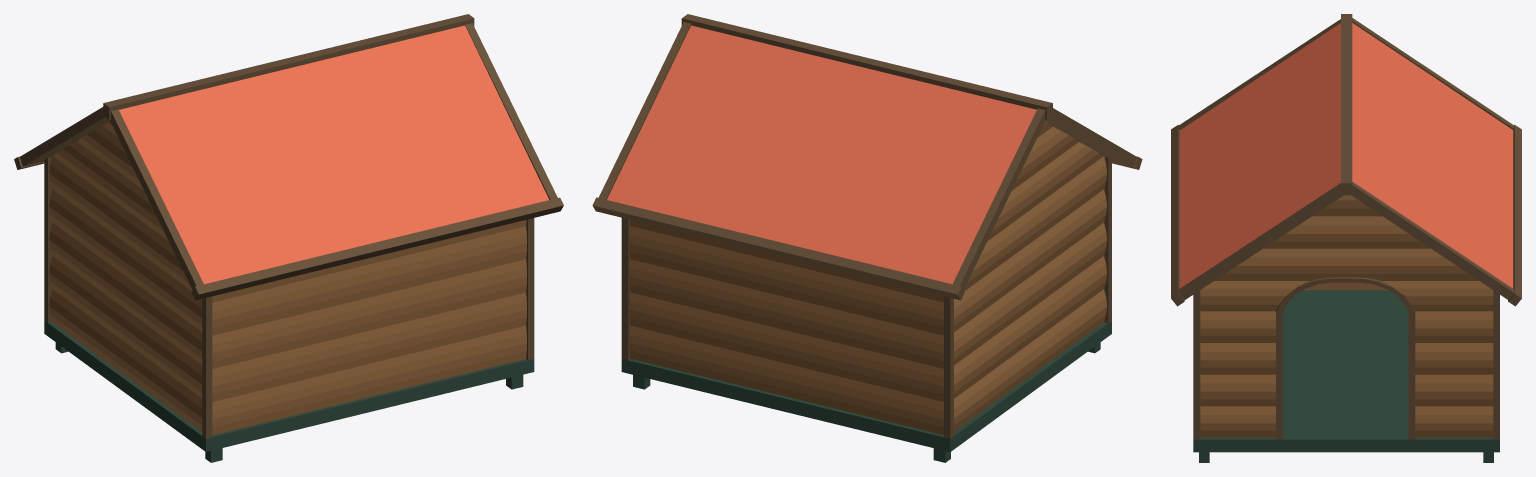
File: doghouse.glb
3 views of the same model, side by side, from view 1: azimuth 30°, elevation 25°; view 2: azimuth 150°, elevation 25°; view 3: azimuth 270°, elevation 25° (orthographic). The views are drawn at different scales.
Parts seen in each view (by area): view 1: Plane; view 2: Plane; view 3: Plane.
Boxes of the visible parts, bbox=[...] form: Plane: bbox=[14, 14, 563, 462]; Plane: bbox=[592, 14, 1142, 462]; Plane: bbox=[1171, 14, 1521, 462].
Bounding box in the file's own units: 1.15 × 0.9268 × 1.01.
